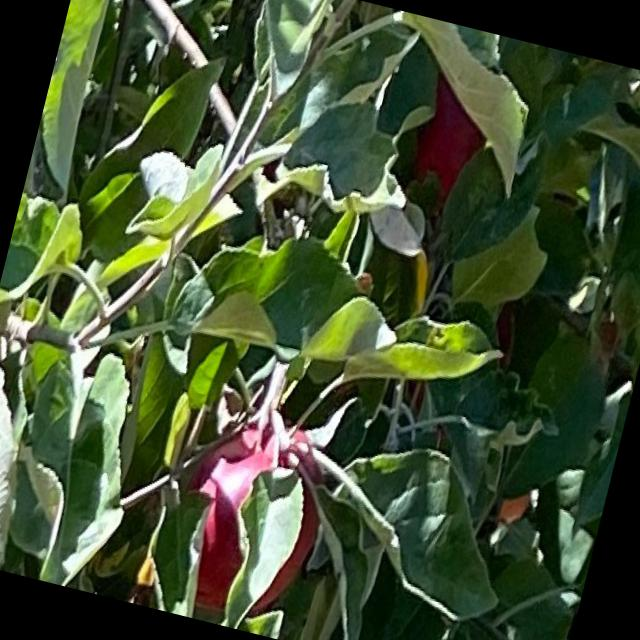Apples: (159, 402, 341, 626), (402, 64, 500, 204)
